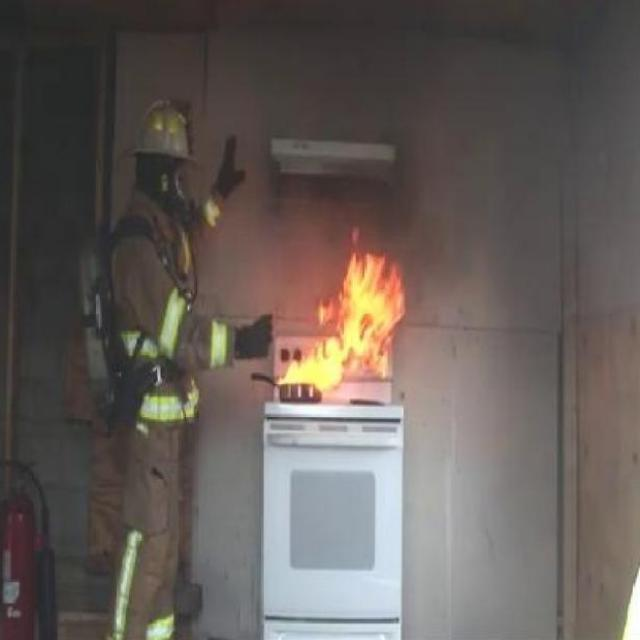fire: (261, 0, 442, 236)
smoke: (277, 238, 404, 388)
